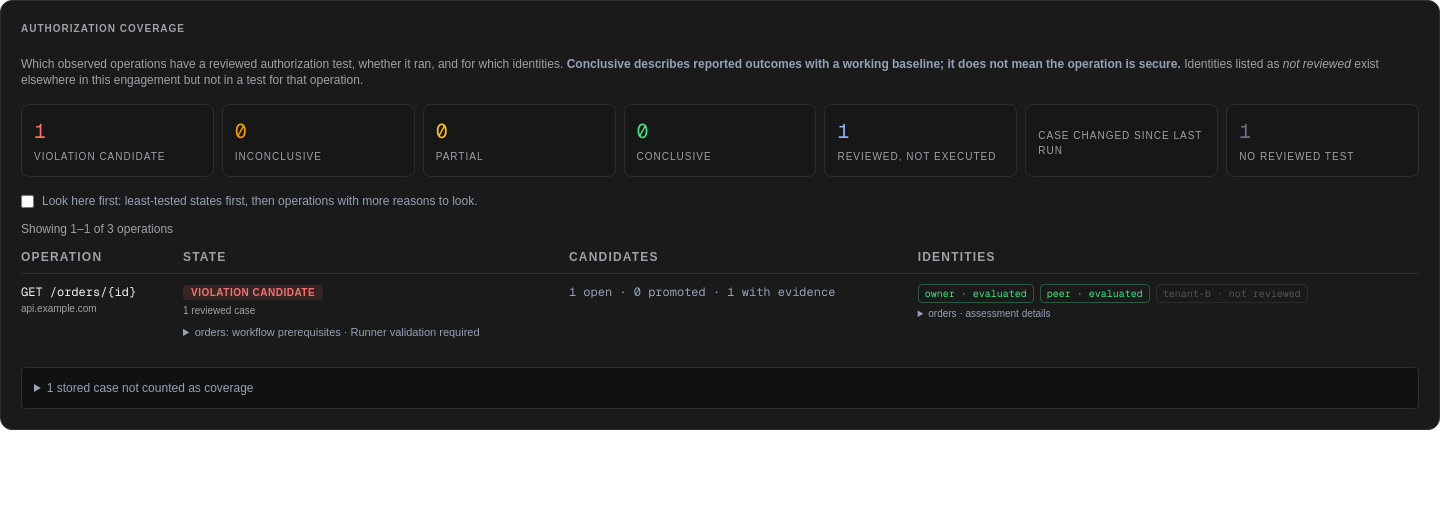
Test: AuthorizationCoveragePanel › shows the HTTP outcome, reported decision and proof with the individual assessment state
The image size is (1440, 512).
Click the heading "orders · assessment details" at {"x": 989, "y": 314}, box [928,308,1051,319]
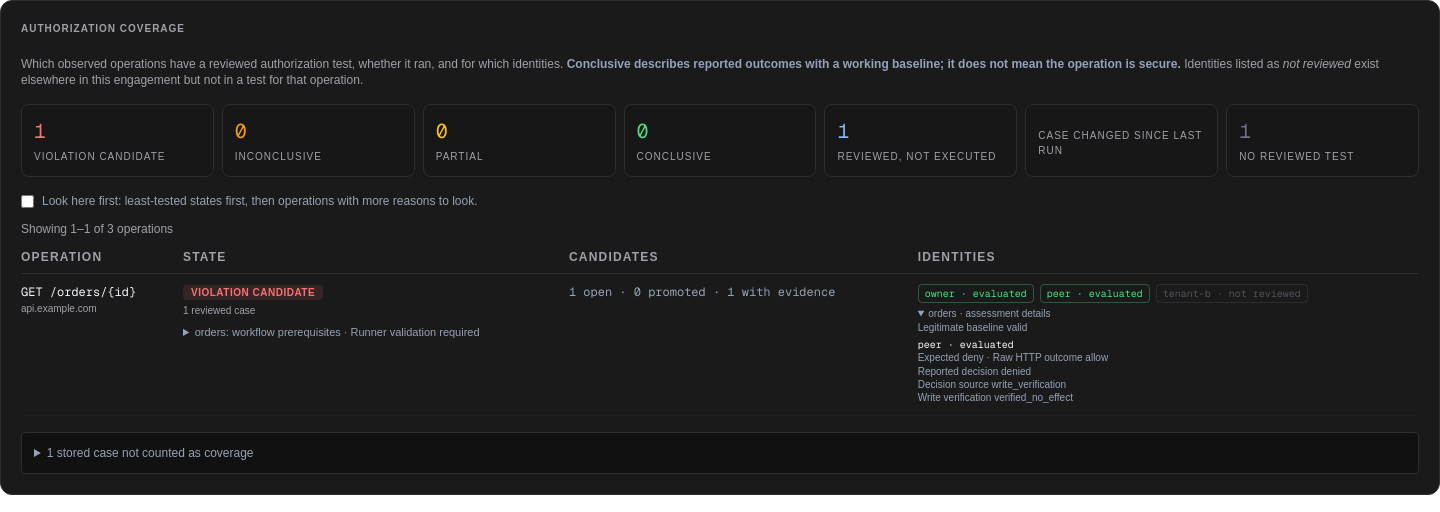
Result: the text "Legitimate baseline valid" is shown at [918,322,1027,333]
Result: the text "Expected deny · Raw HTTP outcome allow" is shown at [918,352,1108,363]
Result: the text "Reported decision denied" is shown at [918,366,1031,377]
